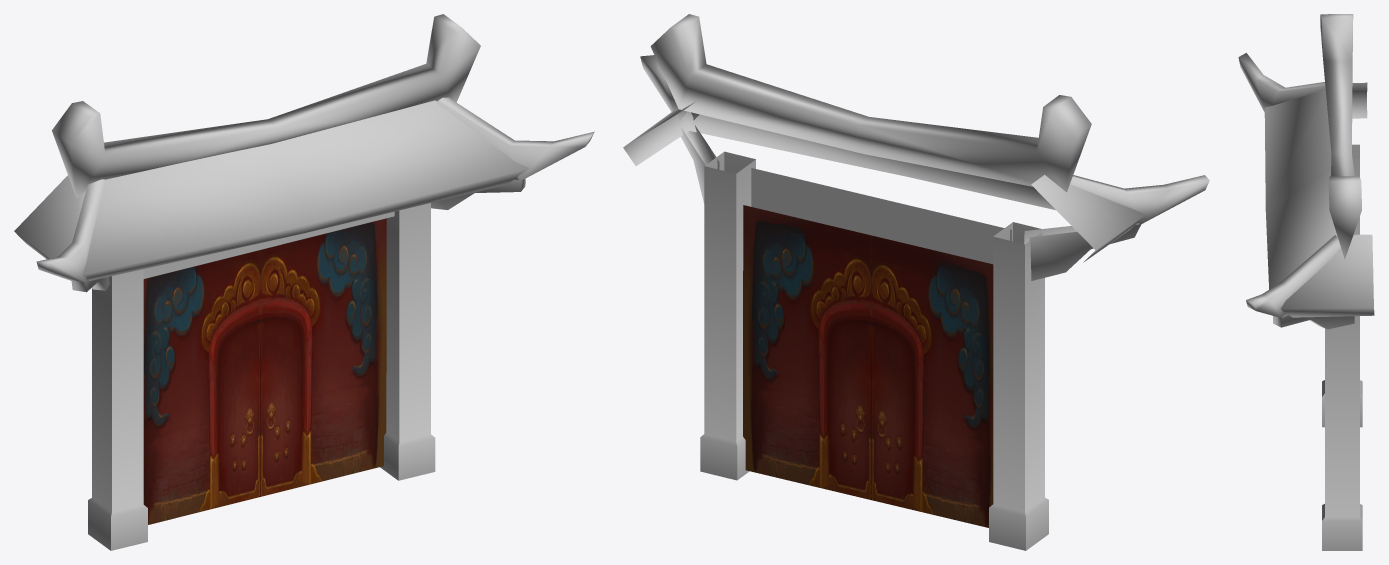
File: environment_Building_Gongdian_001_h.FBX
3 renders of one model, left to right at view 1: azimuth 30°, elevation 25°; view 2: azimuth 150°, elevation 25°; view 3: azimuth 270°, elevation 25°, orthographic. The views are drawn at different scales.
Parts seen in each view (by area): view 1: environment_Building_Gongdian_001_h03, environment_Building_Gongdian_001_h02, environment_Building_Gongdian_001_h04, environment_Building_Gongdian_001_h01; view 2: environment_Building_Gongdian_001_h03, environment_Building_Gongdian_001_h04, environment_Building_Gongdian_001_h01, environment_Building_Gongdian_001_h02; view 3: environment_Building_Gongdian_001_h02, environment_Building_Gongdian_001_h01, environment_Building_Gongdian_001_h04.
Boxes of the visible parts, x1,y1,x2,y2 form: environment_Building_Gongdian_001_h03: [143, 218, 386, 524]; environment_Building_Gongdian_001_h02: [14, 100, 529, 281]; environment_Building_Gongdian_001_h04: [88, 203, 435, 550]; environment_Building_Gongdian_001_h01: [36, 14, 594, 292]; environment_Building_Gongdian_001_h03: [743, 205, 993, 527]; environment_Building_Gongdian_001_h04: [700, 151, 1048, 550]; environment_Building_Gongdian_001_h01: [640, 14, 1209, 280]; environment_Building_Gongdian_001_h02: [623, 101, 1145, 262]; environment_Building_Gongdian_001_h02: [1264, 82, 1374, 317]; environment_Building_Gongdian_001_h01: [1238, 14, 1361, 329]; environment_Building_Gongdian_001_h04: [1322, 144, 1362, 550].
Size of the model in its own units: 854 by 639 by 203.
